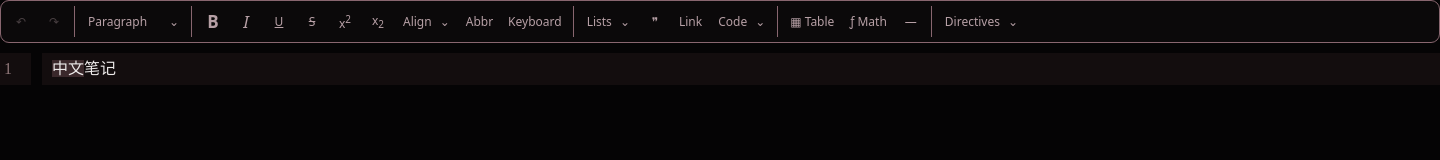
Test: MarkdownEditor › formats the preserved selection from toolbar buttons and keyboard shortcuts
The image size is (1440, 160).
Click the button named "Bold".
click(213, 22)  # box x1=198 y1=6 x2=228 y2=37
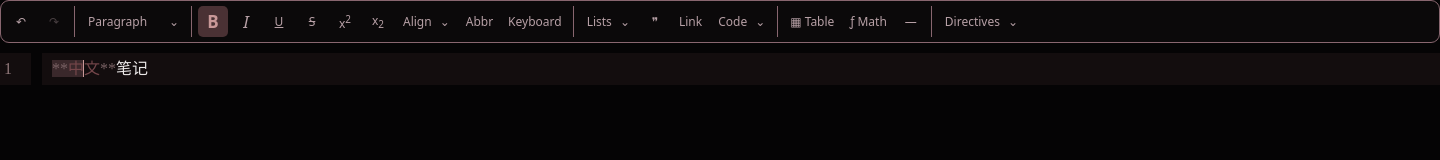
Now the text box labelled "**中文**笔记" is shown
Press b in the field named "Note content", box x1=42 y1=53 x2=1439 y2=85
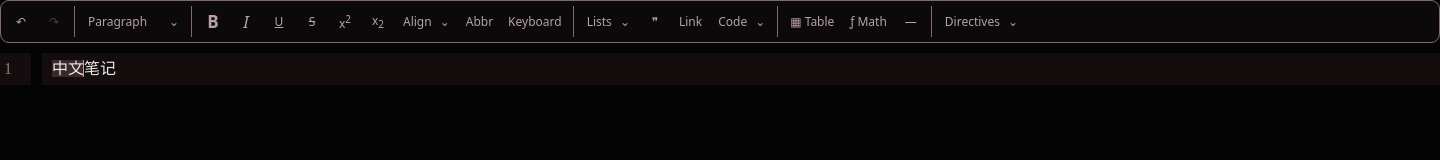
Now the text box labelled "中文笔记" is shown
Press z in the field named "Note content", box x1=42 y1=53 x2=1439 y2=85
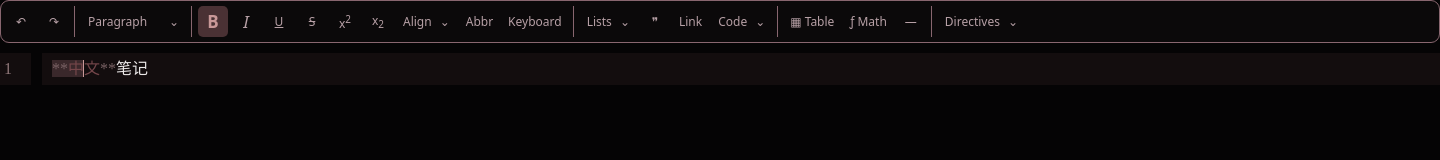
Now the text box labelled "**中文**笔记" is shown
Press Z in the field named "Note content", box x1=42 y1=53 x2=1439 y2=85
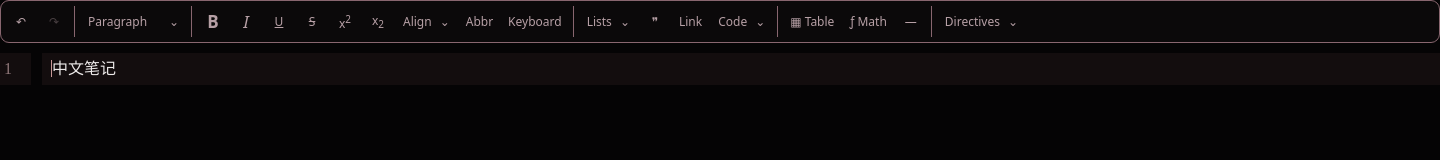
Now the text box labelled "中文笔记" is shown, box x1=42 y1=53 x2=1439 y2=85
